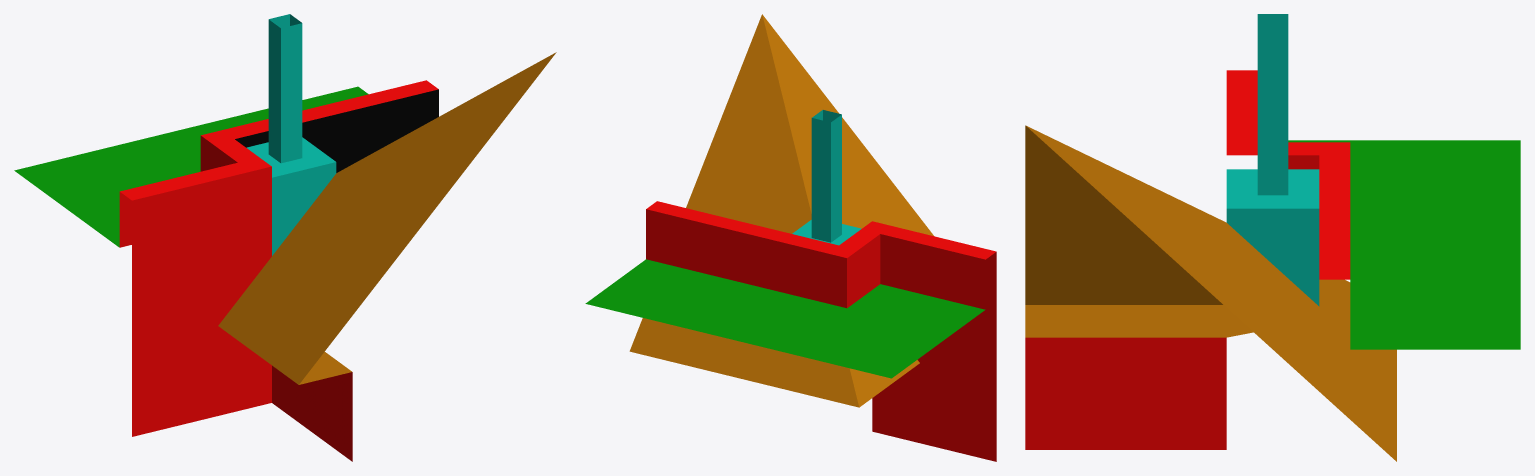
File: None_W_S_E_E_W_E_E_E_BigStrut.fbx
3 views of the same model, side by side, from view 1: azimuth 30°, elevation 25°; view 2: azimuth 150°, elevation 25°; view 3: azimuth 270°, elevation 25° (orthographic). The views are drawn at different scales.
Visible parts, largest first — view 1: None_W_S_E_E_W_E_E_E_BigStrut; view 2: None_W_S_E_E_W_E_E_E_BigStrut; view 3: None_W_S_E_E_W_E_E_E_BigStrut.
Boxes of the visible parts, x1,y1,x2,y2 form: None_W_S_E_E_W_E_E_E_BigStrut: (14,14,556,461); None_W_S_E_E_W_E_E_E_BigStrut: (585,14,996,461); None_W_S_E_E_W_E_E_E_BigStrut: (1025,14,1520,461).
Size of the model in its own units: 100 by 100 by 100.
